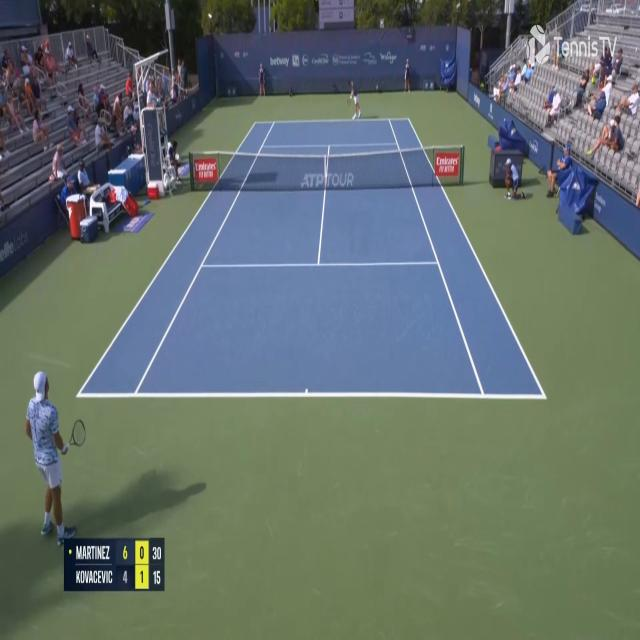tennis-player: (24, 368, 88, 540), (346, 81, 362, 122)
